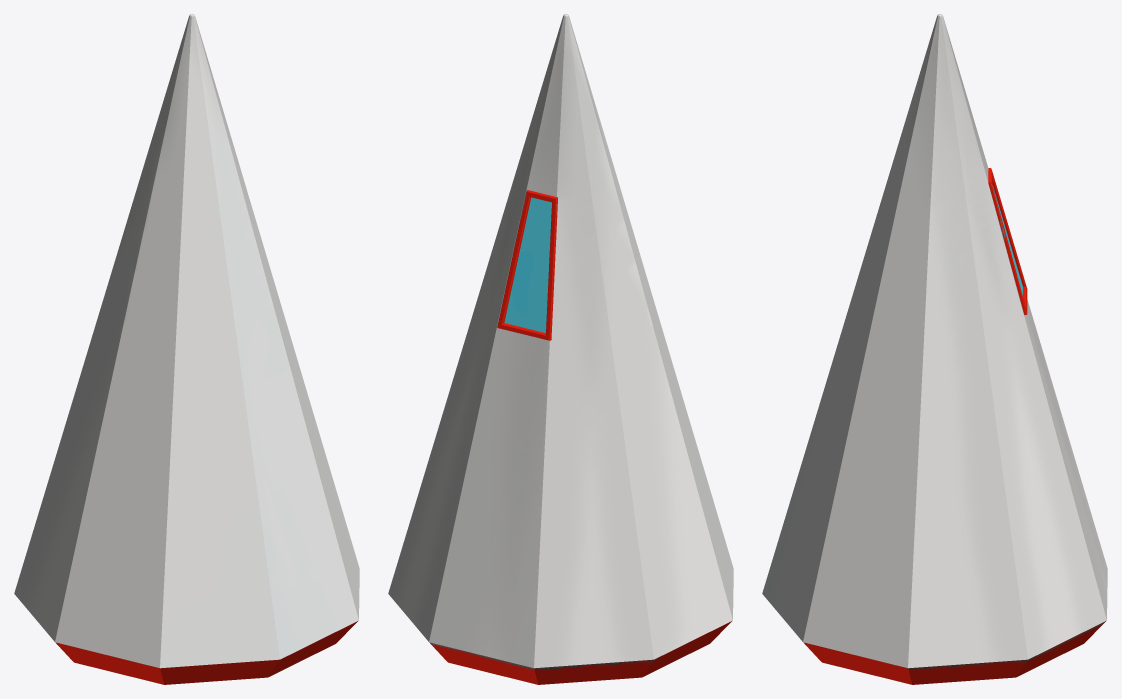
File: spaceship.fbx
3 views of the same model, side by side, from view 1: azimuth 30°, elevation 25°; view 2: azimuth 150°, elevation 25°; view 3: azimuth 270°, elevation 25° (orthographic).
Visible parts, largest first — view 1: Cone.003; view 2: Cone.003; view 3: Cone.003.
Part boxes in pixels (x1,y1,x2,y2): Cone.003: [14, 14, 359, 684]; Cone.003: [388, 14, 733, 684]; Cone.003: [762, 14, 1107, 684].
Bounding box in the file's own units: 140 × 73.47 × 72.44.
